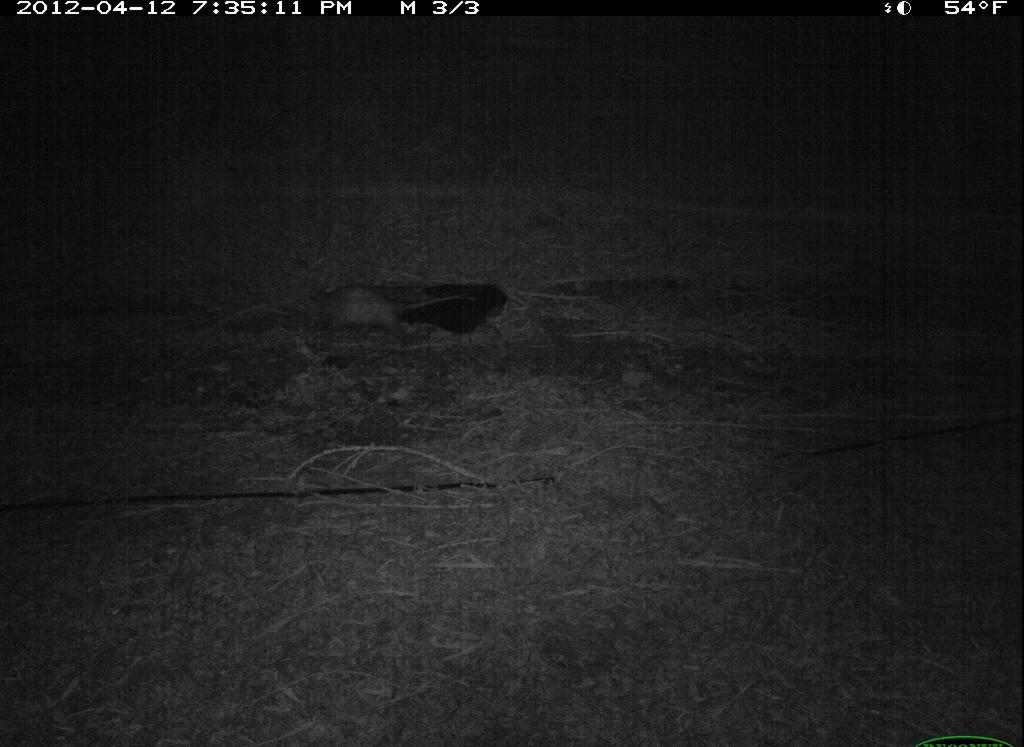opossum: (294, 271, 484, 349)
